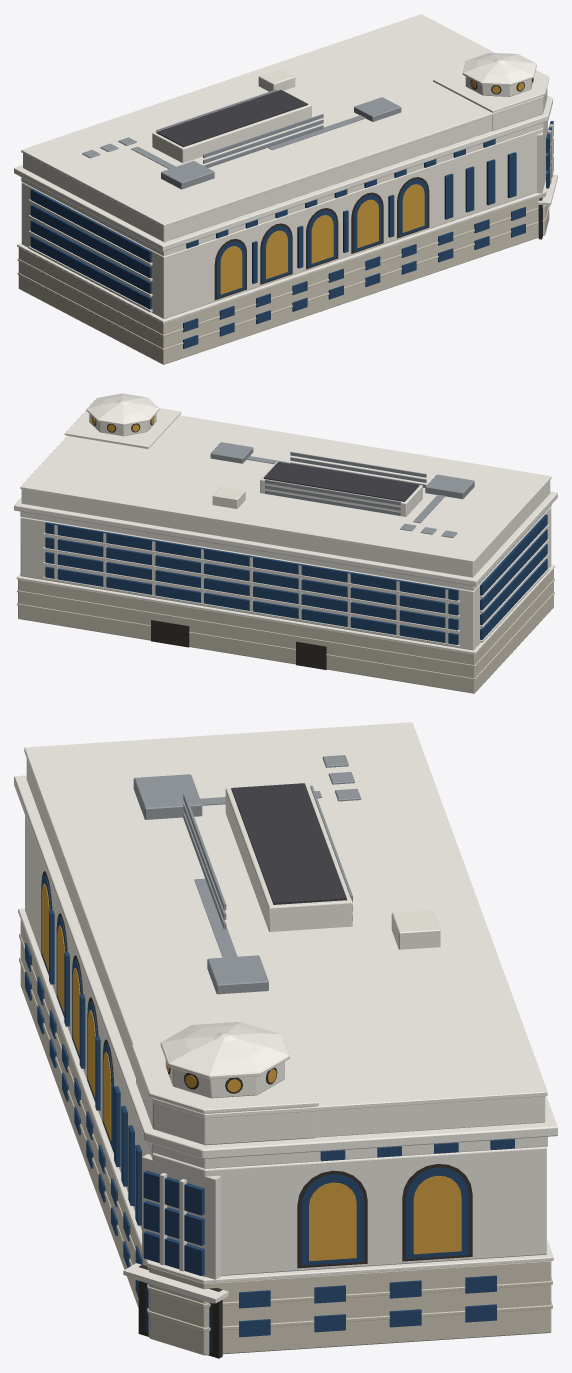
The model's file is civic-center-courthouse.optimized.glb.
The picture shows the model from 3 angles, top to bottom: view 1: azimuth 30°, elevation 25°; view 2: azimuth 150°, elevation 25°; view 3: azimuth 270°, elevation 25°; orthographic projection. The views are drawn at different scales.
Visible parts, largest first — view 1: grp_Toy_white, grp_Toy_trim, grp_Toy_stone, grp_Toy_glass, grp_Toy_mustard_Glow, grp_Toy_steel, ph_deck, grp_Toy_ink; view 2: grp_Toy_white, grp_Toy_trim, grp_Toy_glass, grp_Toy_stone, grp_Toy_steel, ph_deck, grp_Toy_ink; view 3: grp_Toy_white, grp_Toy_trim, grp_Toy_stone, grp_Toy_glass, grp_Toy_mustard_Glow, ph_deck, grp_Toy_steel, grp_Toy_ink.
Boxes of the visible parts, box(x1,y1,x2,y2) form: grp_Toy_white: box(14, 14, 557, 323); grp_Toy_trim: box(21, 69, 553, 318); grp_Toy_stone: box(17, 193, 549, 364); grp_Toy_glass: box(30, 121, 553, 348); grp_Toy_mustard_Glow: box(220, 78, 533, 294); grp_Toy_steel: box(82, 89, 401, 189); ph_deck: box(156, 90, 307, 146); grp_Toy_ink: box(214, 78, 542, 300); grp_Toy_white: box(14, 393, 557, 654); grp_Toy_trim: box(20, 413, 551, 650); grp_Toy_glass: box(45, 514, 547, 644); grp_Toy_stone: box(17, 569, 554, 693); grp_Toy_steel: box(210, 442, 474, 537); ph_deck: box(263, 462, 419, 501); grp_Toy_ink: box(92, 416, 326, 669); grp_Toy_white: box(14, 722, 557, 1303); grp_Toy_trim: box(25, 759, 547, 1279); grp_Toy_stone: box(19, 920, 552, 1355); grp_Toy_glass: box(25, 875, 514, 1351); grp_Toy_mustard_Glow: box(42, 883, 461, 1261); ph_deck: box(231, 783, 346, 904); grp_Toy_steel: box(133, 755, 361, 994); grp_Toy_ink: box(41, 871, 472, 1358).
Bounding box in the file's own units: 91.08 × 29.6 × 51.3.
